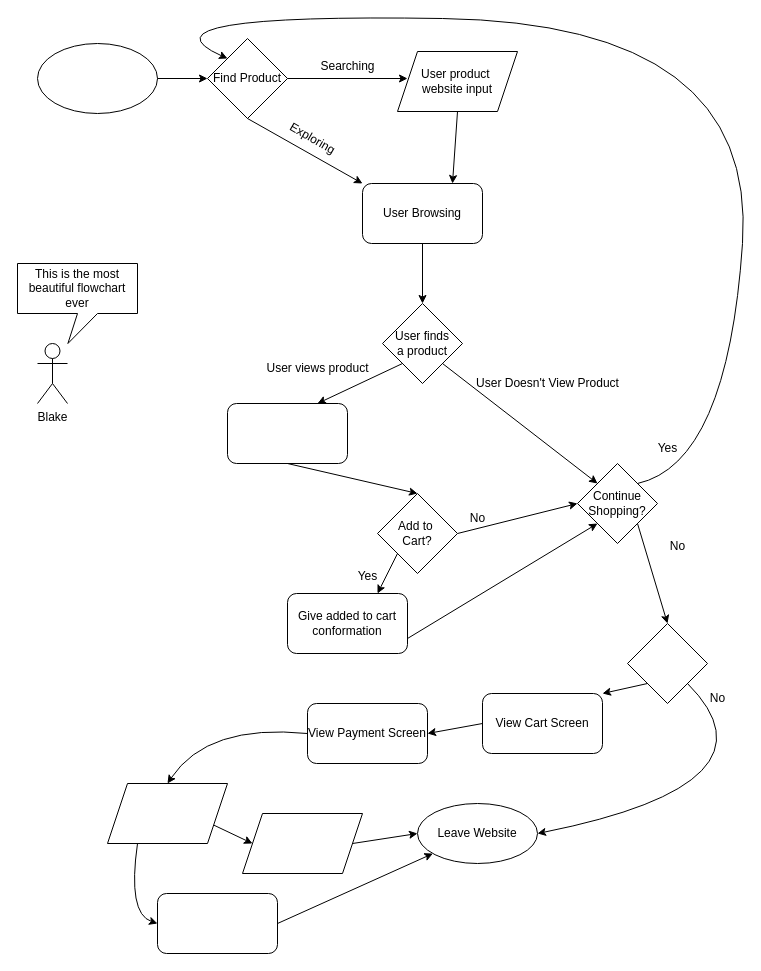
This 761x971 diagram has some shape labels left out. Here are the shapes that lost their labels. From the top down, the centre of each, then its label:
At (x=97, y=78): "Start - User enters the website".
At (x=287, y=433): "Go to Product Page".
At (x=667, y=663): "Check Out?".
At (x=167, y=813): "Give Payment Information".
At (x=302, y=843): "Send Email Conformation".
At (x=217, y=923): "Order Conformation Screen".
